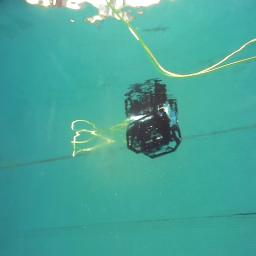Side: (125, 111, 183, 159)
